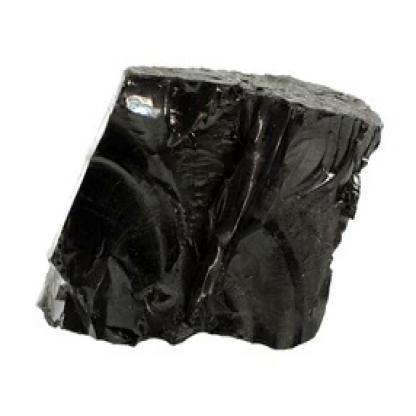Sedimentary_coal: (14, 56, 406, 355)
